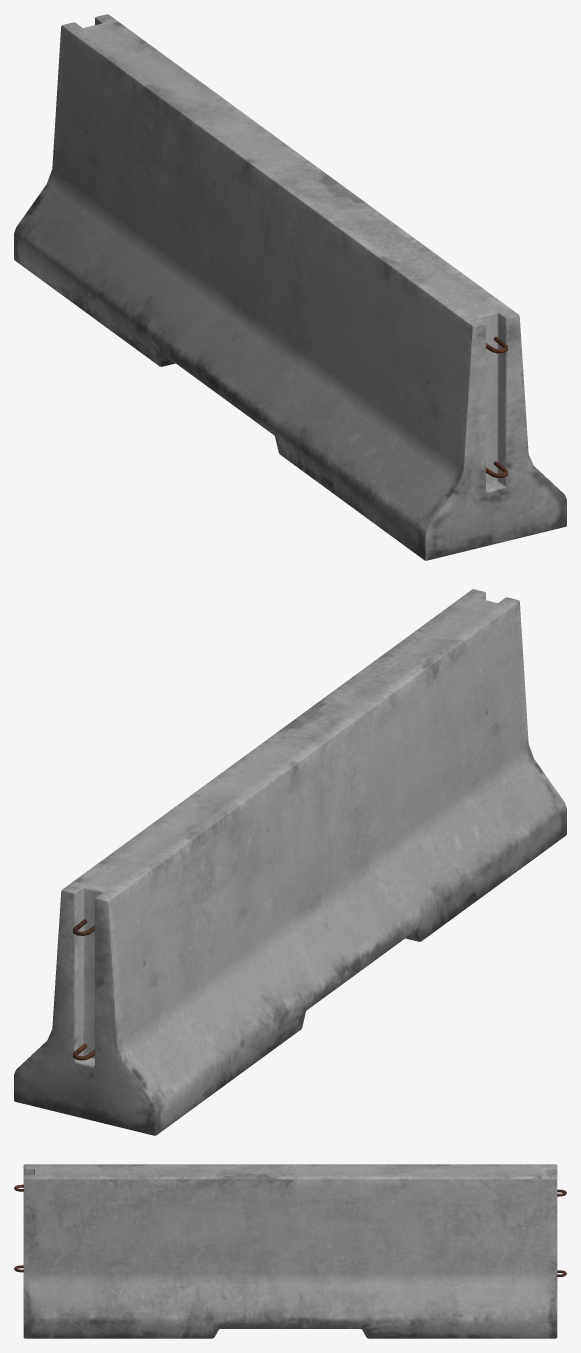
File: SM_Roadblock_1.fbx
3 renders of one model, top to bottom at view 1: azimuth 30°, elevation 25°; view 2: azimuth 150°, elevation 25°; view 3: azimuth 270°, elevation 25°, orthographic. The views are drawn at different scales.
Parts seen in each view (by area): view 1: SM_Roadblock_1_LOD0; view 2: SM_Roadblock_1_LOD0; view 3: SM_Roadblock_1_LOD0.
Boxes of the visible parts, x1,y1,x2,y2 form: SM_Roadblock_1_LOD0: (14, 14, 566, 560); SM_Roadblock_1_LOD0: (14, 589, 566, 1135); SM_Roadblock_1_LOD0: (14, 1164, 566, 1338).
Bounding box in the file's own units: 60 × 311 × 90.
1 material, 1 textured.
